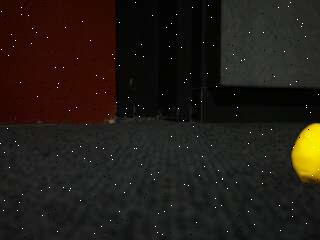Lemon: (290, 121, 320, 188)
